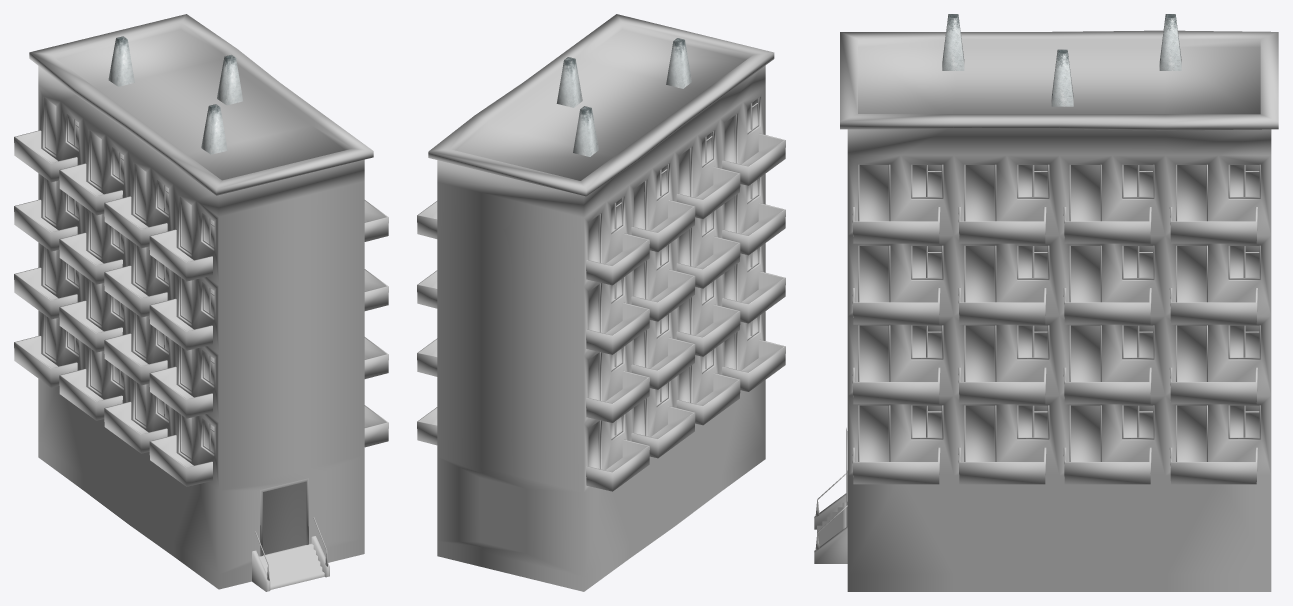
File: House2_01.FBX
3 renders of one model, left to right at view 1: azimuth 30°, elevation 25°; view 2: azimuth 150°, elevation 25°; view 3: azimuth 270°, elevation 25°, orthographic. The views are drawn at different scales.
Parts seen in each view (by area): view 1: Home_03_002; view 2: Home_03_002; view 3: Home_03_002.
Boxes of the visible parts, left/top/right/bottom form: Home_03_002: left=14, top=14, right=388, bottom=591; Home_03_002: left=417, top=14, right=785, bottom=591; Home_03_002: left=814, top=14, right=1278, bottom=591.
Bounding box in the file's own units: 62.33 × 132 × 108.
